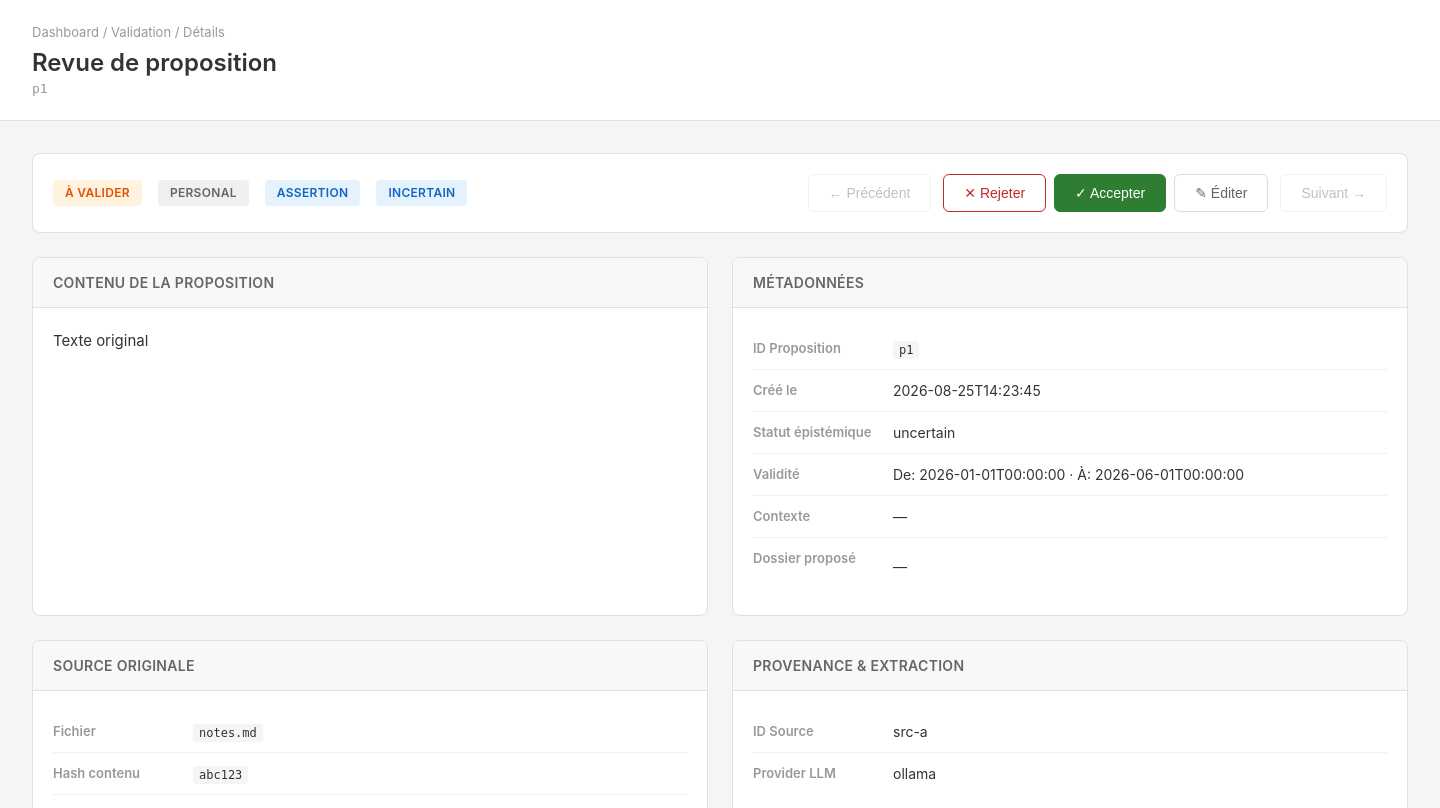
Test: ProposalDetail › TASK-013 AC10: clicking Éditer reveals a textarea, an epistemic-status select, and two validity inputs seeded from the current values
This screenshot has width=1440, height=808.
Expected: the text "Texte original" is shown, [53,331,148,350]
Click the button "✎ Éditer": (1221, 193) [1174,174,1268,212]
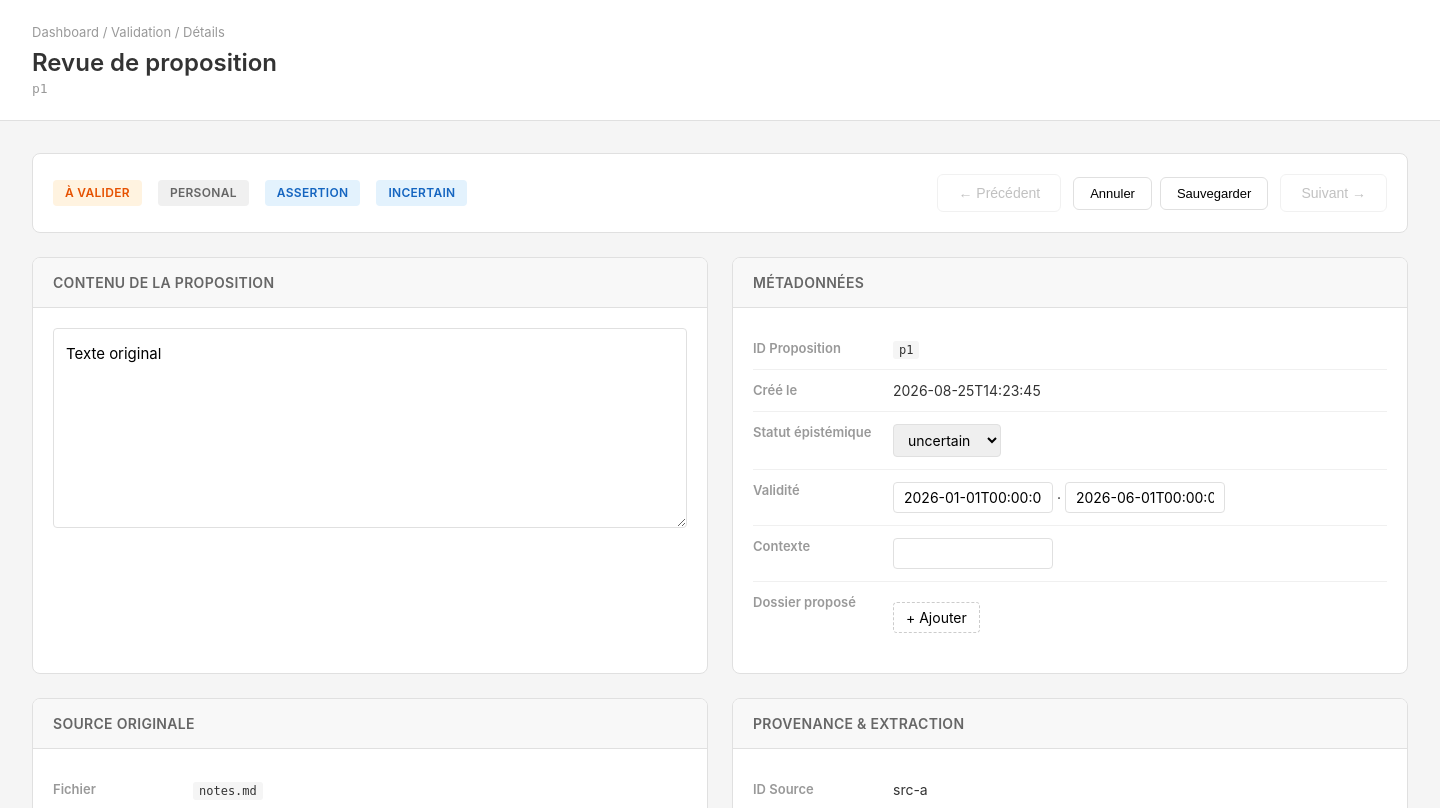
Expected: the text box named "Contenu de la proposition" holds "Texte original", [53,328,687,528]
Expected: the dropdown shows "uncertain", [893,424,1001,457]
Expected: the field showing "2026-01-01T00:00:00" is shown, [893,482,1053,513]
